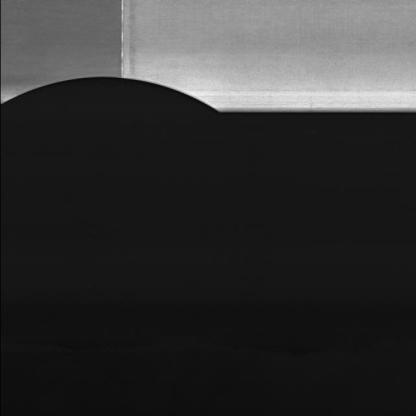crescent_gap: (0, 70, 235, 126)
welding_line: (109, 0, 130, 86)
